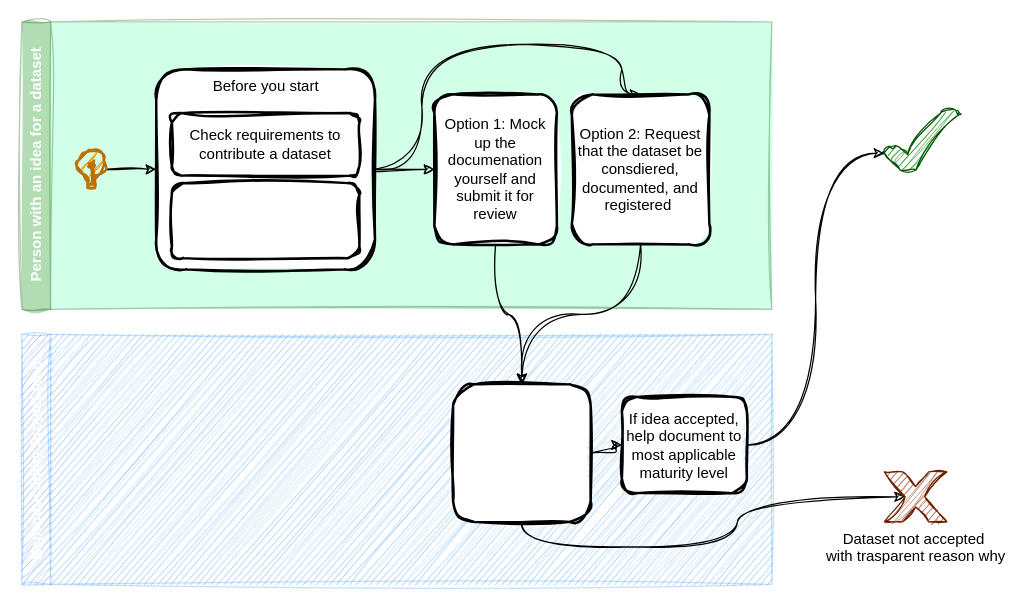
Image size: 1026x606. Some labels were removed from this diagram. Here are the shapes that lost their labels. From the top down, the centre of each, then its label:
At point 921,140: "Dataset regisetered to catalogue".
At point 90,169: "Idea for a dataset!".
At point 265,220: "Check if the dataset saved anywhere that is at least machine readable?".
At point 521,452: "Group assesses the proposed dataset against catalogue requirments".
